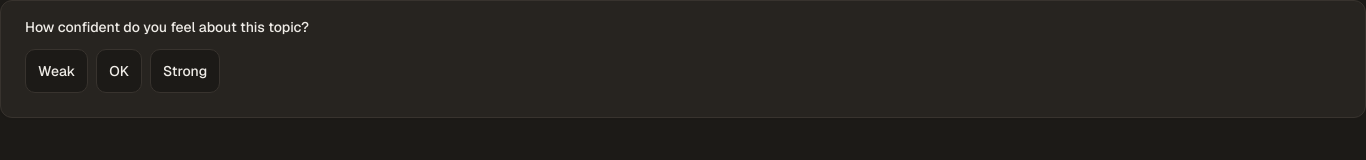
Test case: ConfidenceCalibration › shows same delta when confidence unchanged
Click the button with test id "rating-ok": click(119, 71) [96, 49, 142, 93]
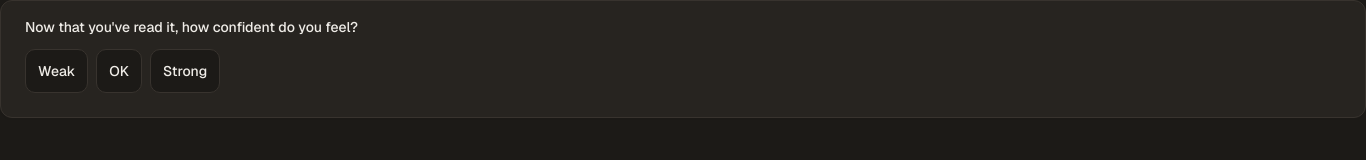
Click the button with test id "rating-ok": click(119, 71) [96, 49, 142, 93]
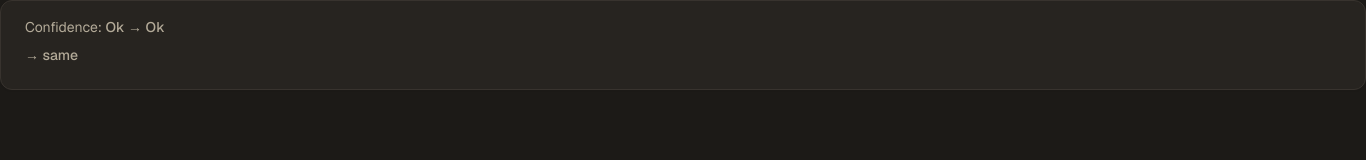
Check: the text with test id "delta-indicator" shows "same", box [25, 46, 78, 64]
